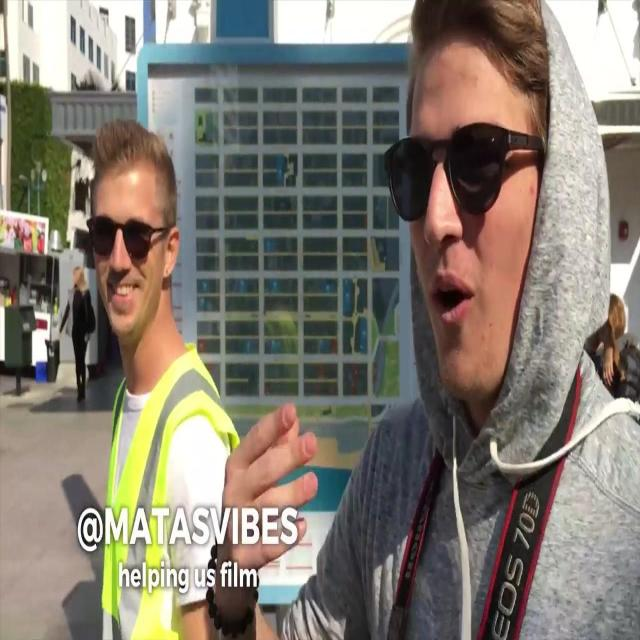Vest: (101, 342, 239, 639)
